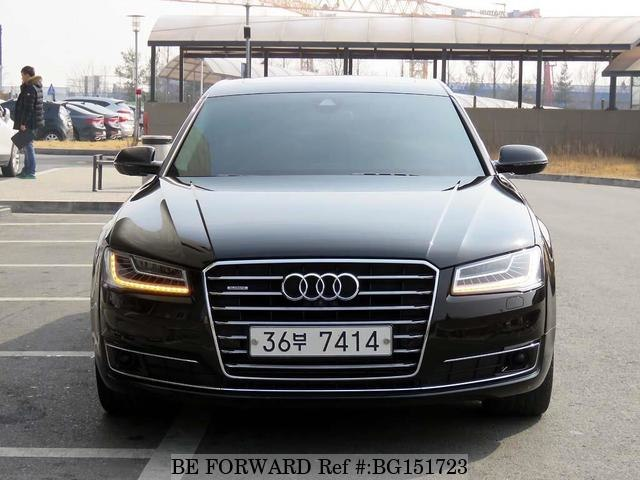audi: (276, 272, 372, 307)
